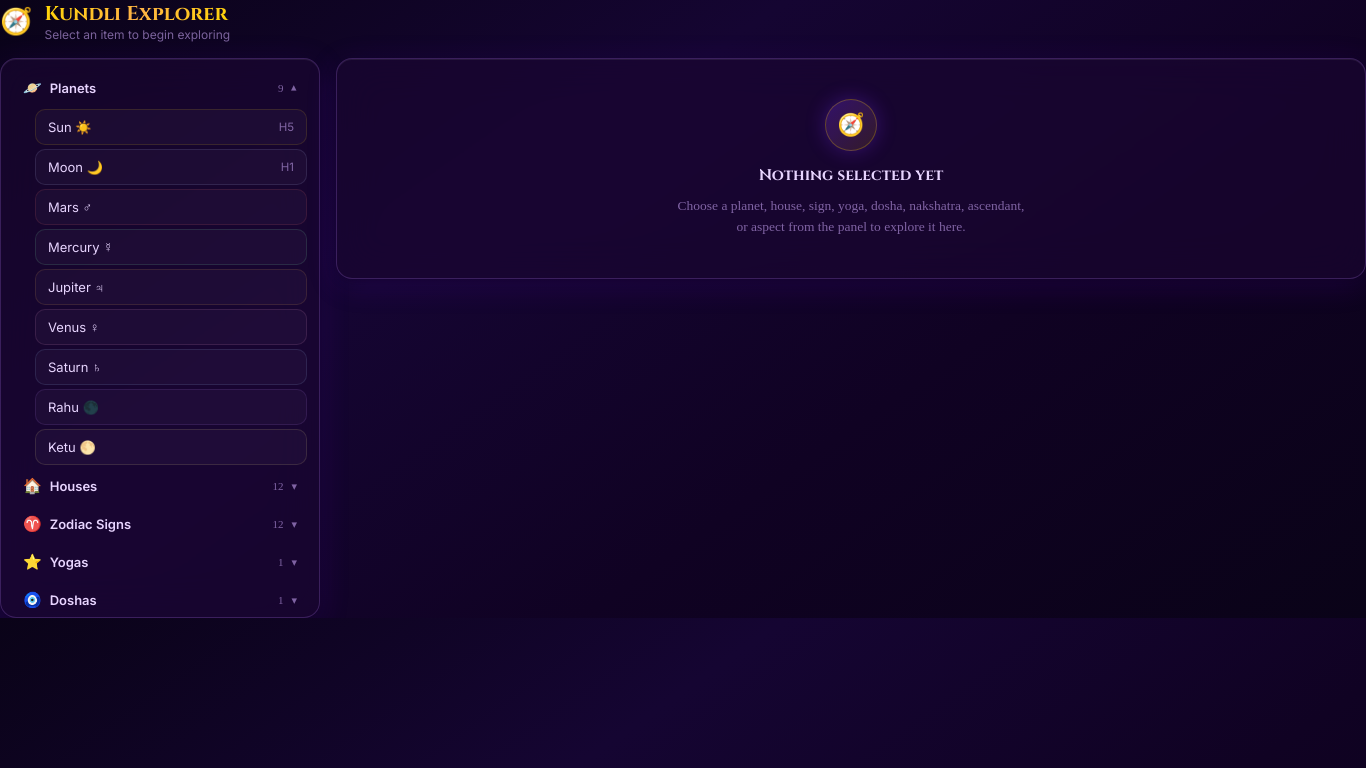
Test: Explorer end-to-end wiring (Phase 5B) › selecting Moon from the full Explorer tab renders its real dignity/strength data
Click the list item "Moon 🌙 H1": (75, 167) [35,149,307,185]
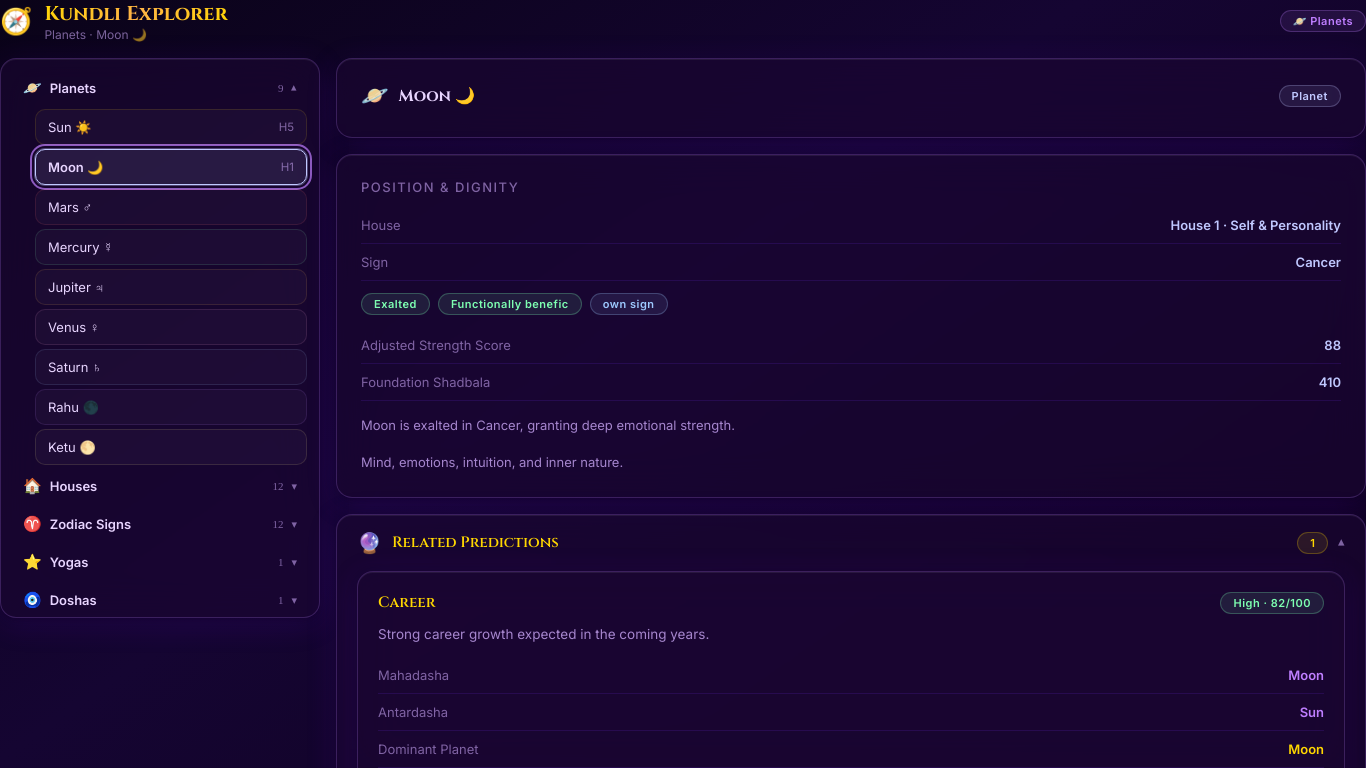
Now the text "Exalted" is shown, box [361,293,430,315]
Now the text "Functionally benefic" is shown, box [438,293,582,315]
